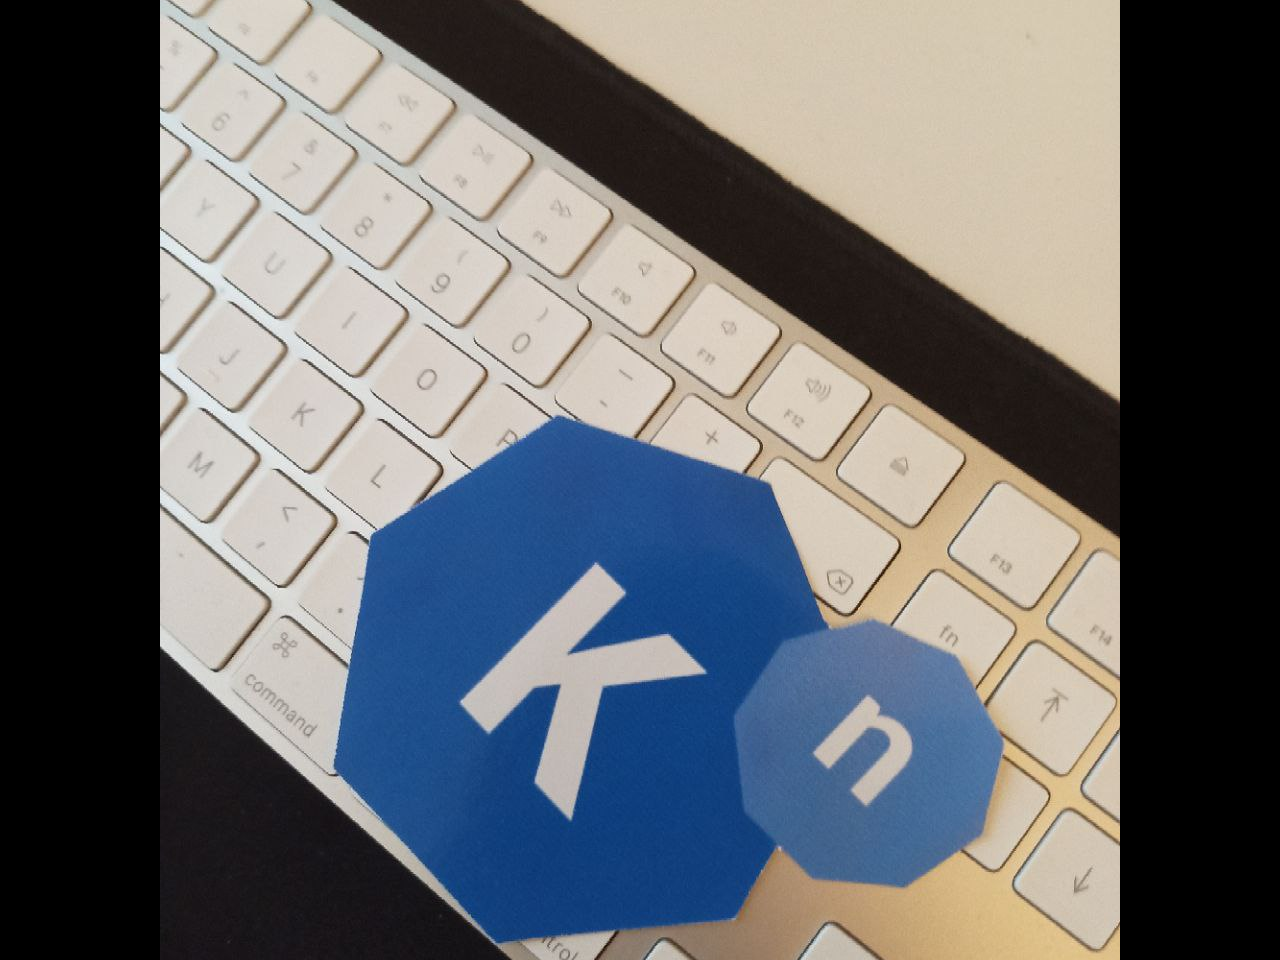knative: (335, 416, 1003, 945)
